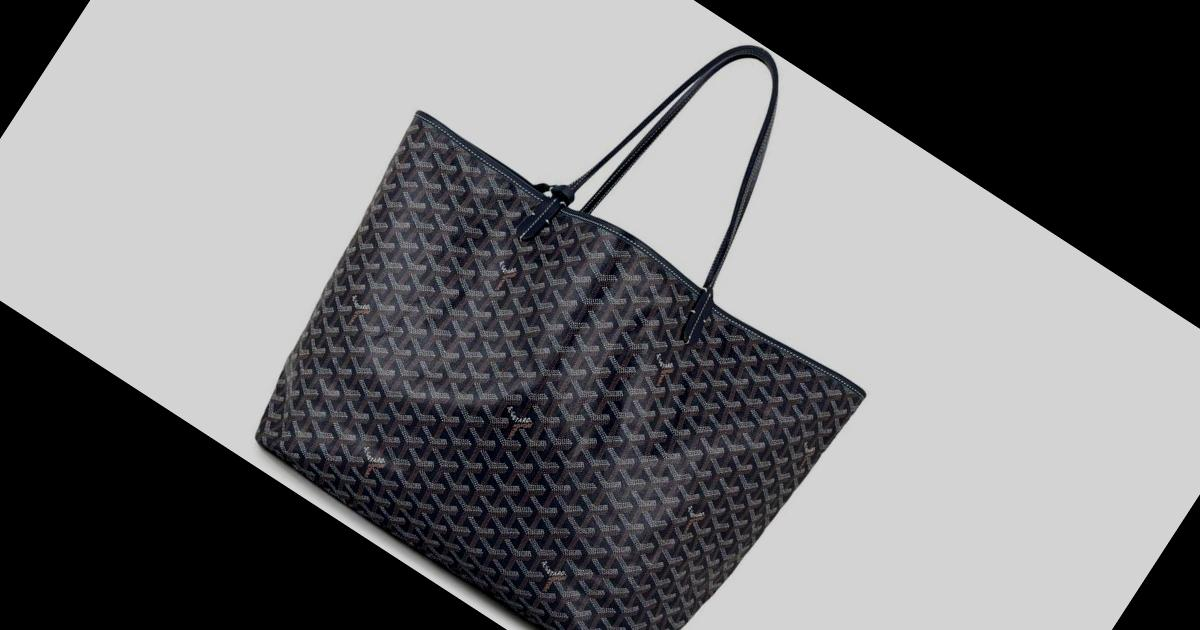GOYARD: (214, 111, 859, 630)
